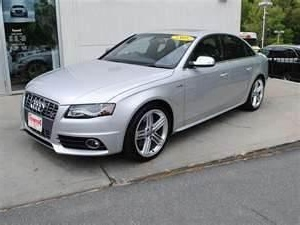car: (9, 22, 276, 183)
